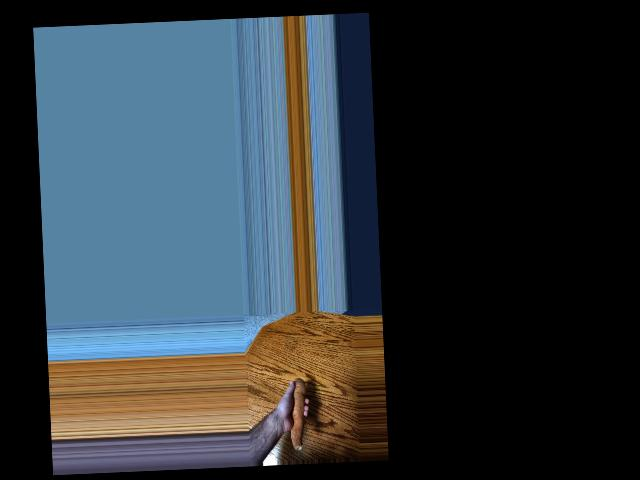sweet_potato: (282, 377, 309, 453)
